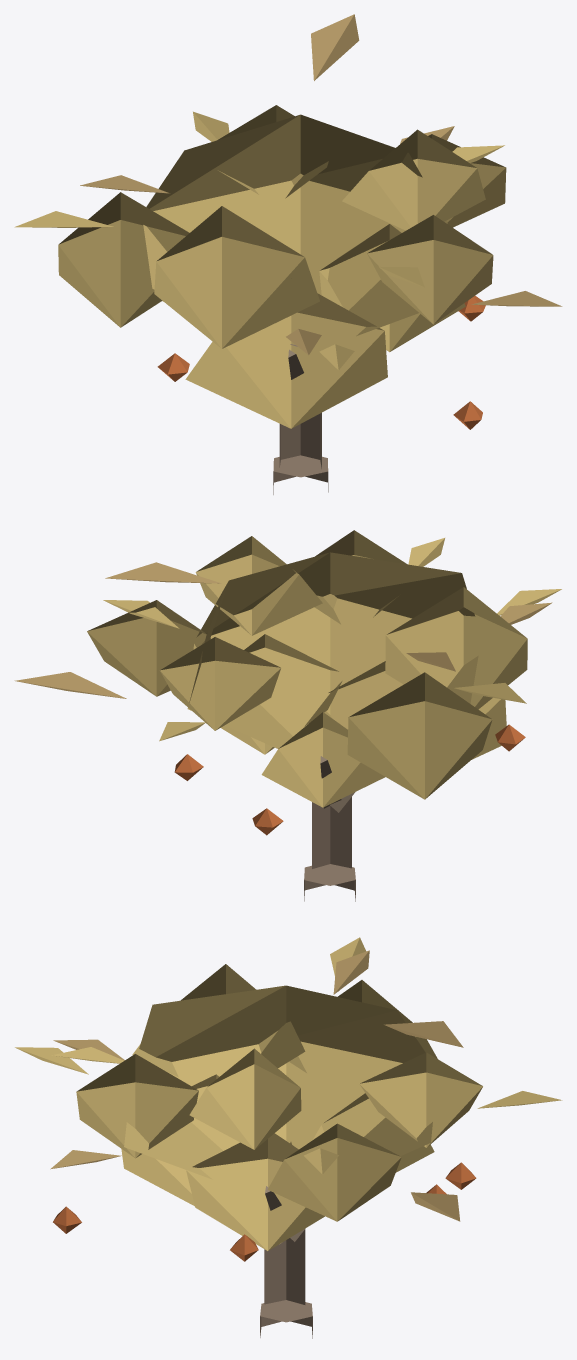
Rendered from shu.ganju@fruiting__autumn.glb.
The picture shows the model from 3 angles, top to bottom: view 1: azimuth 30°, elevation 25°; view 2: azimuth 150°, elevation 25°; view 3: azimuth 270°, elevation 25°; orthographic projection. The views are drawn at different scales.
Visible parts, largest first — view 1: shu.ganju@fruiting__autumn; view 2: shu.ganju@fruiting__autumn; view 3: shu.ganju@fruiting__autumn.
Boxes of the visible parts, box(x1,y1,x2,y2) form: shu.ganju@fruiting__autumn: box(14, 14, 562, 494); shu.ganju@fruiting__autumn: box(14, 530, 561, 901); shu.ganju@fruiting__autumn: box(15, 937, 562, 1338).
Size of the model in its own units: 7.1 by 5.12 by 7.18.
